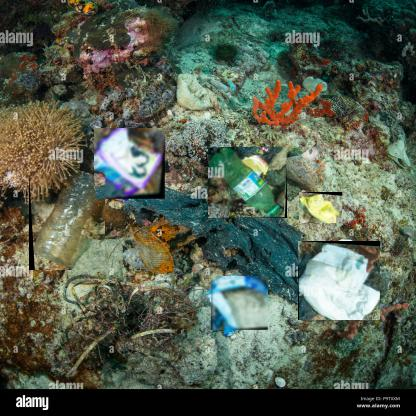bottle: (29, 172, 106, 271), (209, 147, 288, 219)
waste: (298, 241, 381, 321), (94, 128, 166, 200), (211, 276, 269, 331), (299, 192, 343, 224)
